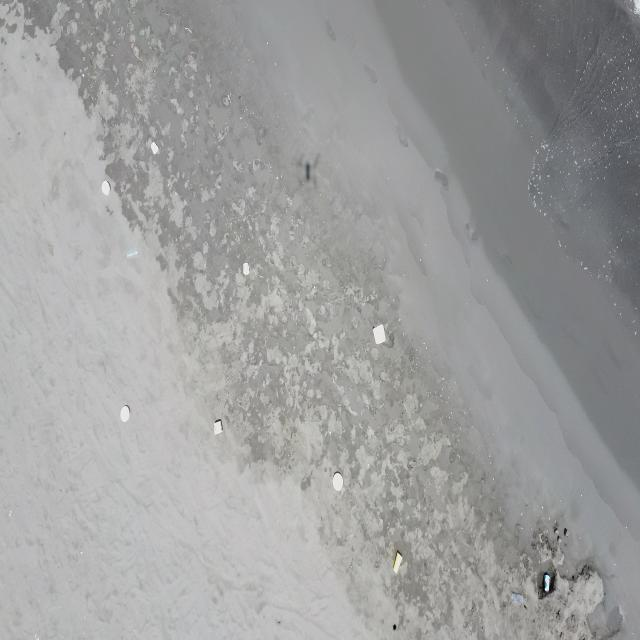take-away-containers: (373, 324, 386, 345), (332, 472, 343, 491), (120, 406, 130, 422), (214, 420, 223, 436), (102, 181, 110, 196), (151, 141, 159, 155), (243, 261, 250, 275)
takeaway-cup: (393, 552, 403, 574), (512, 592, 524, 606), (127, 247, 139, 260), (544, 574, 550, 593)
